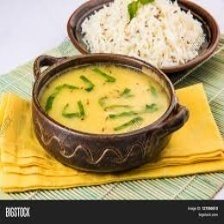dal: (34, 57, 176, 138)
